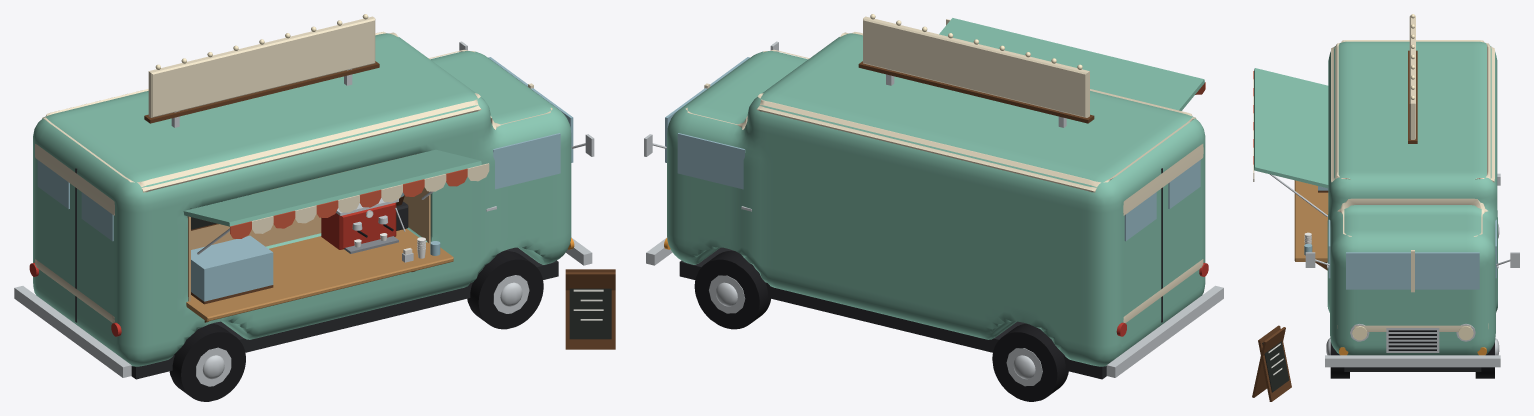
Rendered from coffee-truck.glb.
3 renders of one model, left to right at view 1: azimuth 30°, elevation 25°; view 2: azimuth 150°, elevation 25°; view 3: azimuth 270°, elevation 25°, orthographic. The views are drawn at different scales.
Parts seen in each view (by area): view 1: mint0, cream117, woodTop52, mint107, cream1, glass82, chassis3, rubber16, rubber8, glass38, chrome45, espresso58 (+11 smaller); view 2: mint0, cream117, mint107, cream1, chassis3, rubber12, rubber4, glass29, chrome45, woodDark118, glass47, glass48 (+3 smaller); view 3: mint0, mint107, glass20, cream1, woodTop52, chrome44, chrome22, chalk124, cream117, chassis3, woodDark130, woodDark123 (+4 smaller).
Boxes of the visible parts, x1,y1,x2,y2 form: mint0: [33, 33, 571, 366]; cream117: [148, 16, 375, 117]; woodTop52: [186, 228, 453, 321]; mint107: [183, 149, 481, 226]; cream1: [35, 31, 552, 215]; glass82: [191, 235, 273, 301]; chassis3: [131, 247, 558, 379]; rubber16: [467, 250, 543, 329]; rubber8: [169, 323, 245, 401]; glass38: [493, 133, 560, 189]; chrome45: [14, 286, 131, 377]; espresso58: [321, 202, 396, 249]; mint0: [667, 33, 1205, 366]; cream117: [863, 16, 1089, 117]; mint107: [939, 18, 1204, 110]; cream1: [685, 32, 1203, 215]; chassis3: [679, 247, 1106, 379]; rubber12: [694, 250, 770, 329]; rubber4: [992, 323, 1068, 401]; glass29: [677, 133, 745, 189]; chrome45: [1106, 285, 1223, 377]; woodDark118: [858, 61, 1094, 123]; glass47: [1124, 192, 1156, 241]; glass48: [1168, 160, 1200, 209]; mint0: [1327, 41, 1497, 355]; mint107: [1254, 68, 1328, 188]; glass20: [1346, 252, 1479, 289]; cream1: [1331, 40, 1494, 236]; woodTop52: [1294, 180, 1328, 261]; chrome44: [1325, 355, 1500, 367]; chrome22: [1386, 328, 1439, 352]; chalk124: [1262, 341, 1289, 392]; cream117: [1409, 15, 1415, 139]; chassis3: [1344, 367, 1481, 371]; woodDark130: [1252, 327, 1285, 397]; woodDark123: [1258, 325, 1291, 401].
Bounding box in the file's own units: 5.44 × 3.32 × 3.33.
